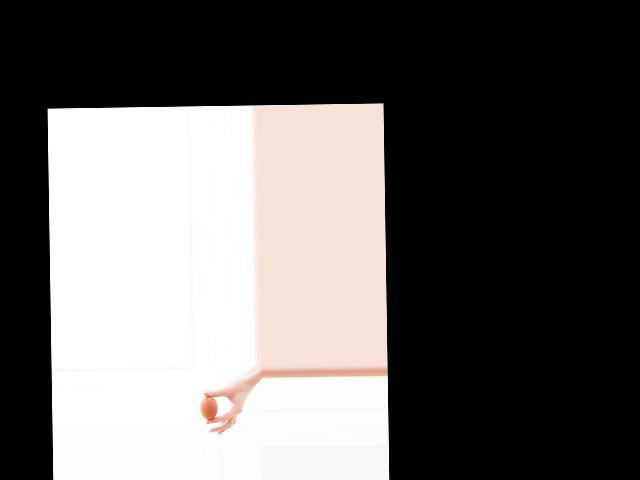egg: (199, 396, 217, 420)
